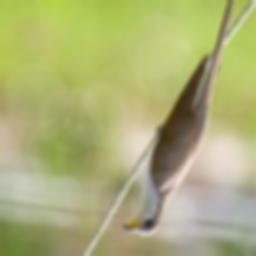Cuckoo: (120, 0, 242, 238)
